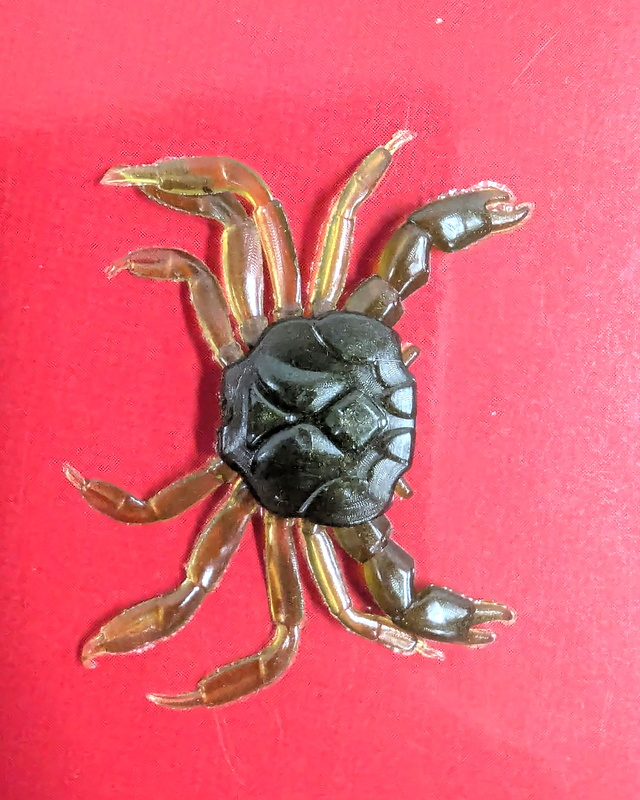crab2: (59, 123, 534, 714)
